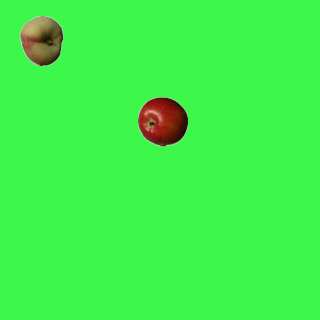Apple Braeburn: (137, 96, 187, 146)
Peach Flat: (16, 15, 66, 65)
